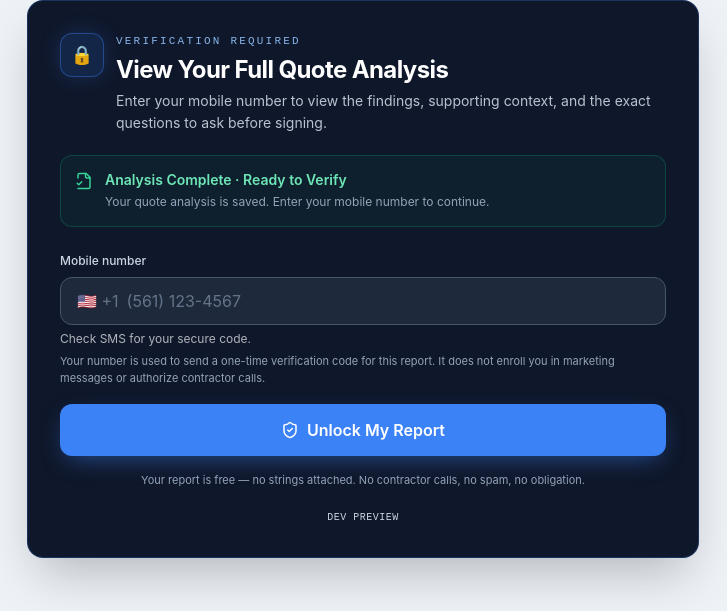
Test: PreviewUnlockSlot visual-lab phone disclosure › shows the neutral analysis copy and preserves the local gate interaction
expect the heading "View Your Full Quote Analysis" is shown: met, box [116,54,448,84]
expect the text "Enter your mobile number to view the findings, supporting context, and the exact questions to ask before signing." is shown: met, box [116,92,651,131]
Type "5615551212" into the field labelled "Mobile number" at {"x": 388, "y": 300}, box [127,288,649,312]
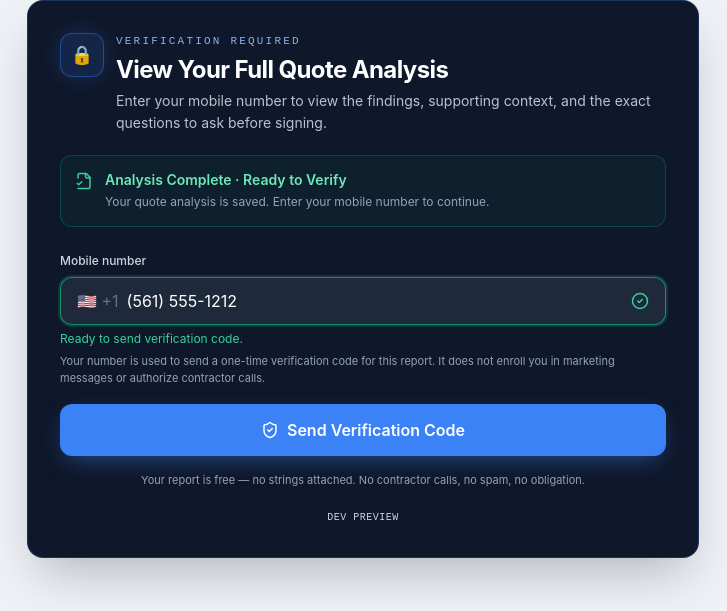
expect the button "Send Verification Code" is enabled: met, box [60,404,666,456]
